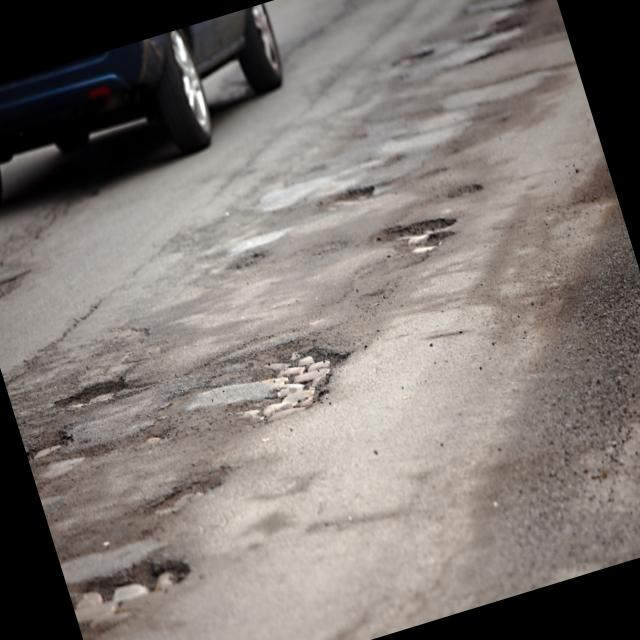Potholes: (172, 294, 388, 484), (54, 506, 212, 640), (367, 171, 490, 304), (430, 0, 572, 82), (301, 173, 392, 236), (50, 362, 134, 430), (18, 405, 102, 472), (378, 17, 448, 84), (206, 236, 286, 292), (442, 162, 493, 200)
